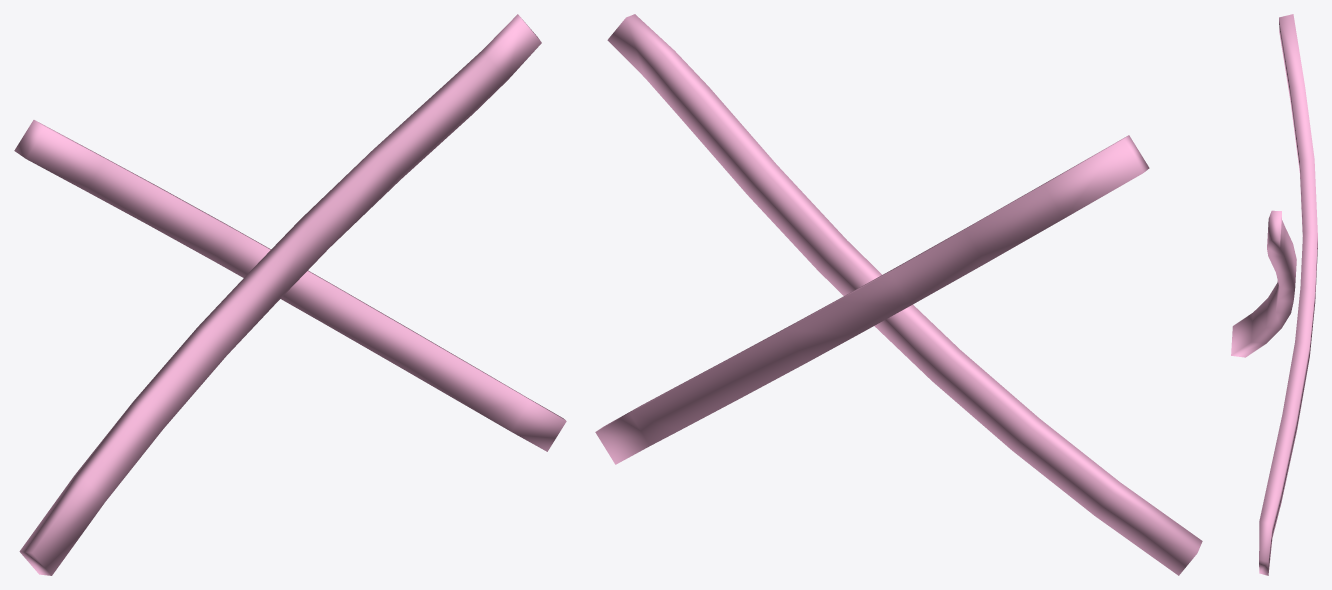
Rendered from kami_xpin.dae.
3 renders of one model, left to right at view 1: azimuth 30°, elevation 25°; view 2: azimuth 150°, elevation 25°; view 3: azimuth 270°, elevation 25°, orthographic. The views are drawn at different scales.
Visible parts, largest first — view 1: o_xpin_0; view 2: o_xpin_0; view 3: o_xpin_0.
Part boxes in pixels (x1,y1,x2,y2): o_xpin_0: (14, 14, 566, 575); o_xpin_0: (595, 14, 1202, 575); o_xpin_0: (1231, 14, 1317, 575).
Bounding box in the file's own units: 0.0495 × 0.00811 × 0.0373.
